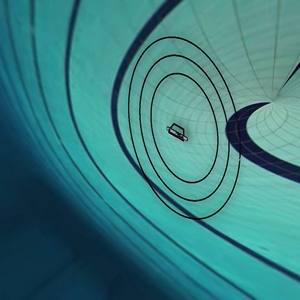circle: (126, 28, 249, 228)
submarine: (164, 115, 195, 153)
